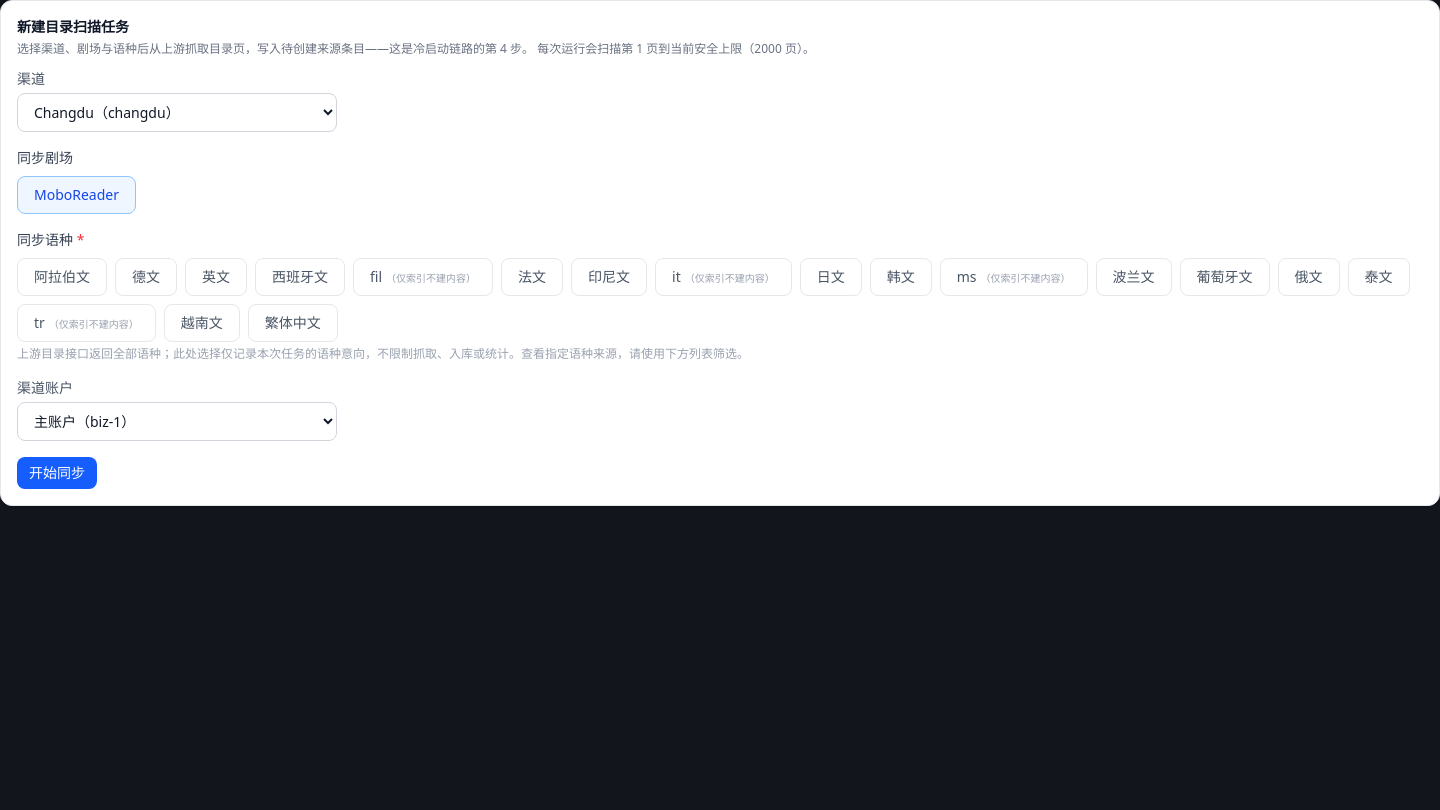
四种结果分支各自独立呈现 › active_conflict：说明已有进行中任务
Click the button "英文": (216, 277) [185,258,247,296]
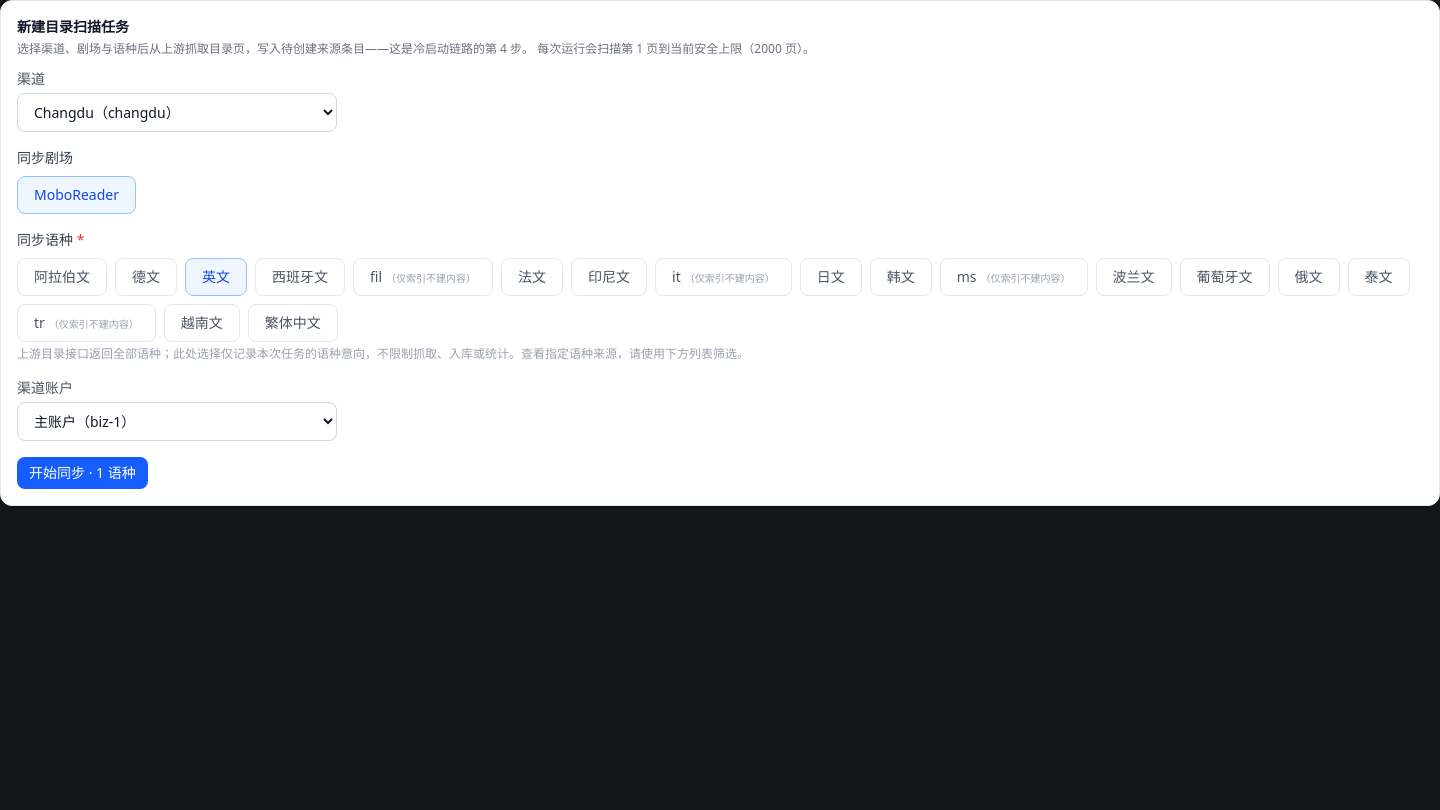
Click the button "开始同步 · 1 语种": (82, 473) [17,457,148,489]
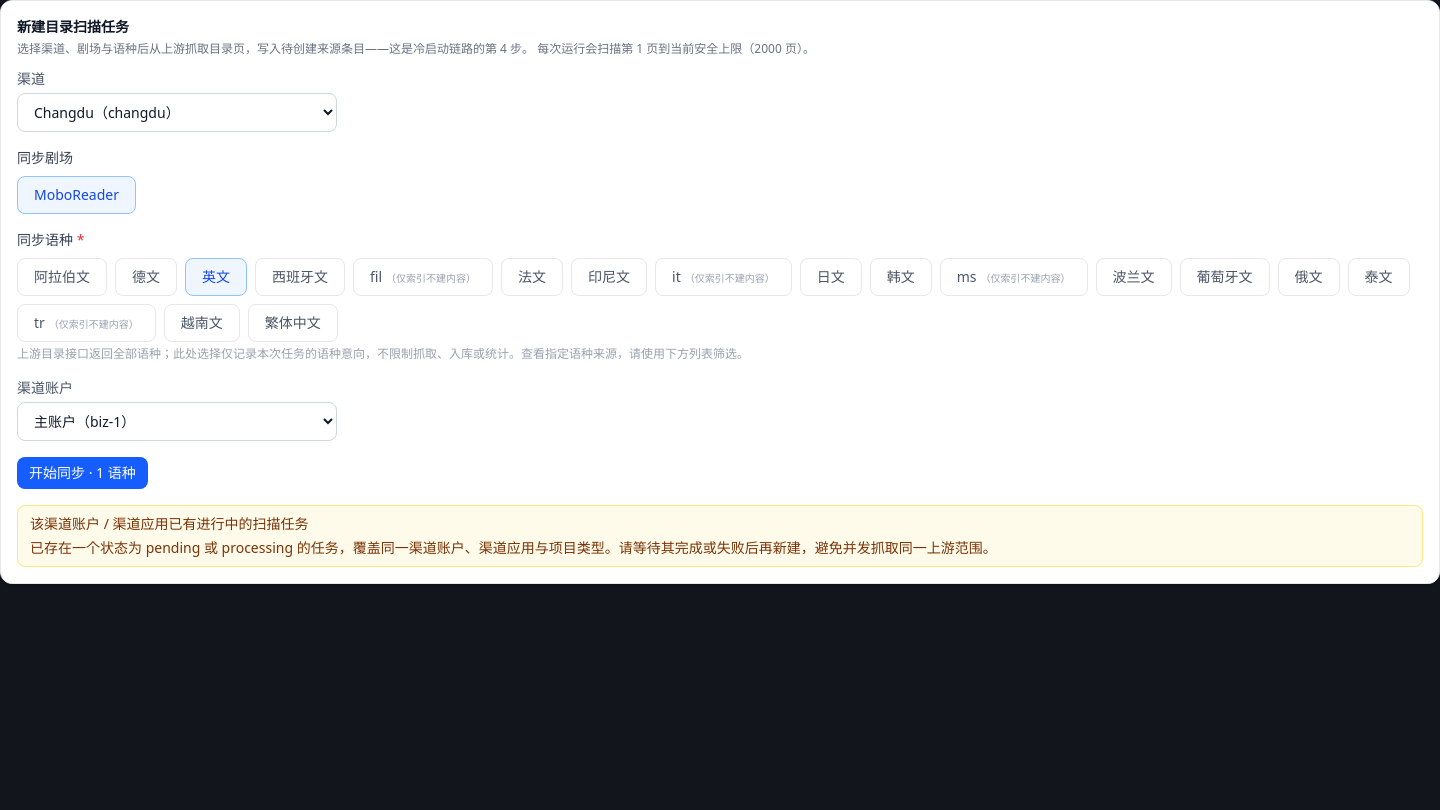
Result: the message with test id "scan-outcome-active_conflict" shows "进行中" at [17,505,1423,567]
